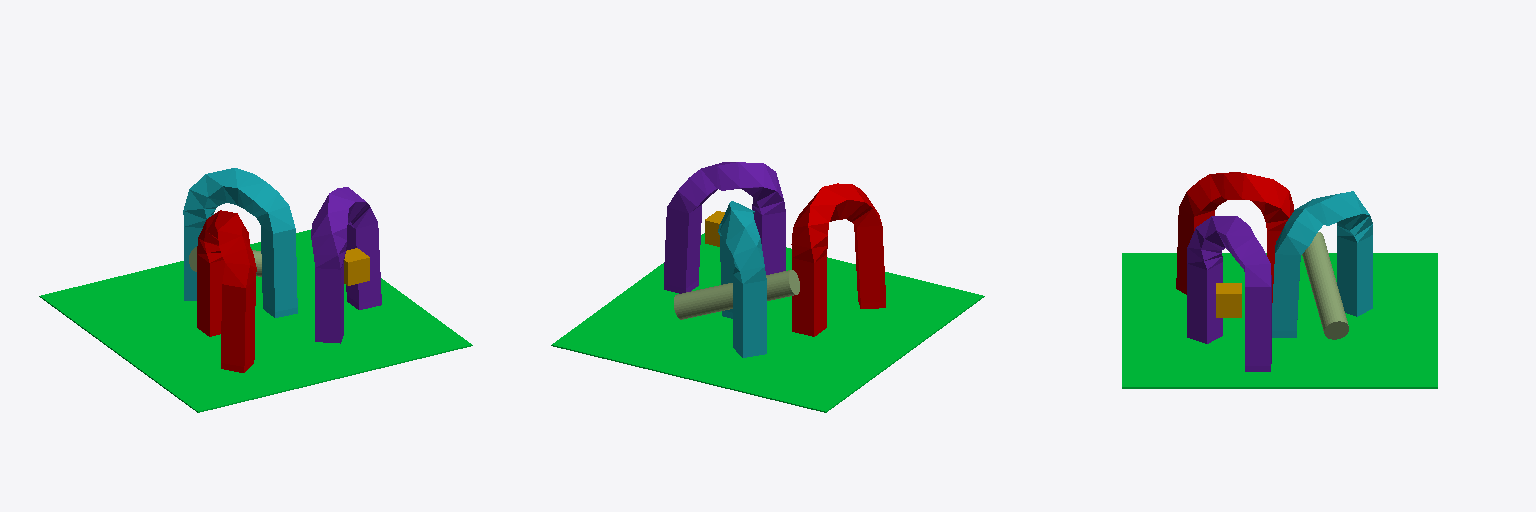
The model's file is arcs.obj.
The picture shows the model from 3 angles: view 1: azimuth 30°, elevation 25°; view 2: azimuth 150°, elevation 25°; view 3: azimuth 270°, elevation 25°; orthographic projection.
Size of the model in its own units: 24.57 by 11.21 by 24.57.